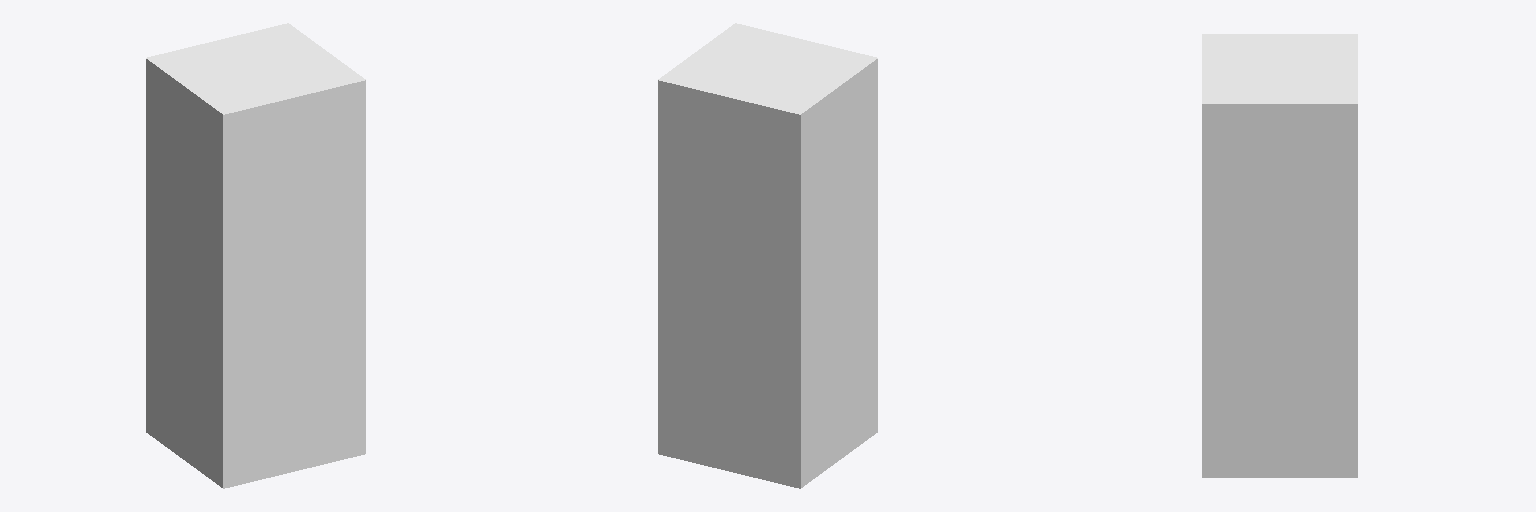
File: BuildingColored.obj
The picture shows the model from 3 angles: view 1: azimuth 30°, elevation 25°; view 2: azimuth 150°, elevation 25°; view 3: azimuth 270°, elevation 25°; orthographic projection.
Bounding box in the file's own units: 18 × 45 × 17.